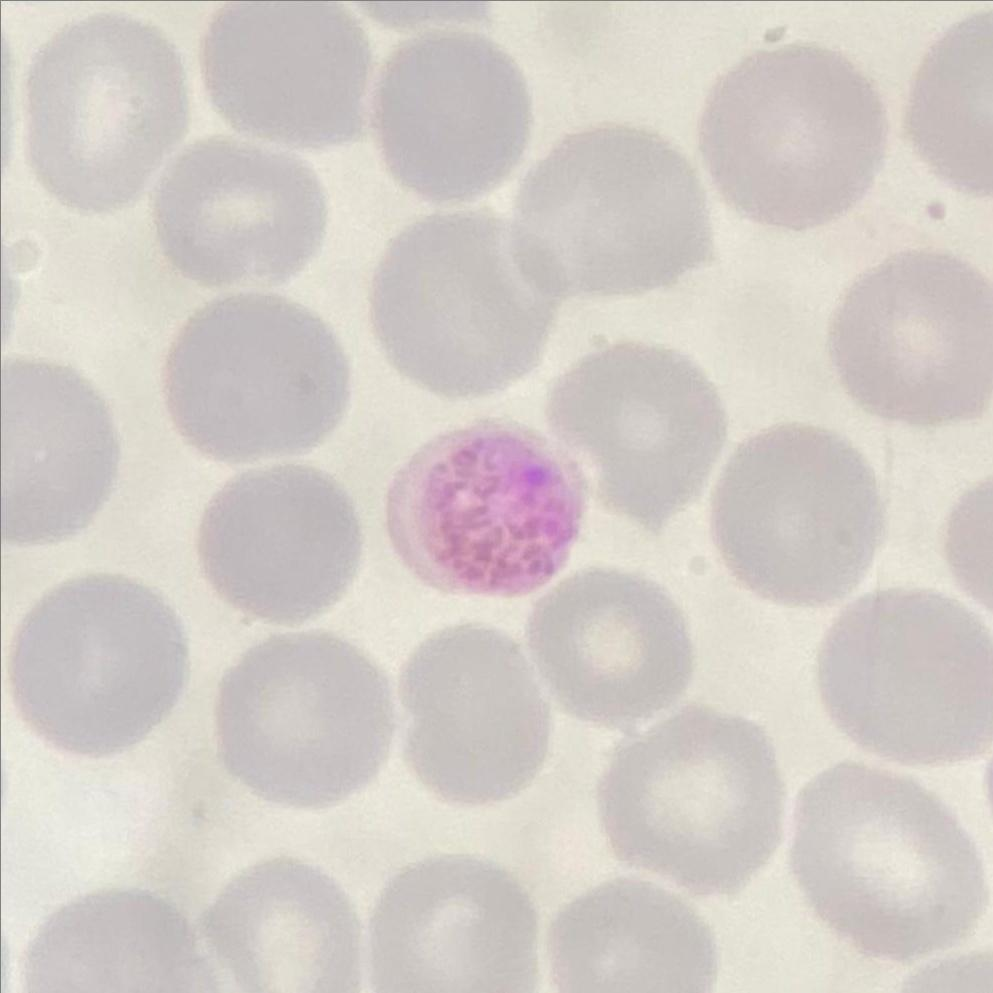Infected: (388, 421, 587, 596)
Uninfected: (790, 761, 980, 957), (376, 209, 560, 402), (598, 708, 785, 893), (514, 128, 714, 300), (702, 43, 885, 227), (545, 342, 727, 526), (10, 575, 188, 758), (163, 292, 352, 463), (213, 632, 394, 807), (26, 13, 189, 206), (712, 423, 882, 605), (818, 592, 992, 767), (396, 625, 553, 804), (832, 250, 992, 425), (370, 30, 533, 200), (201, 1, 379, 152), (197, 466, 365, 625), (154, 139, 331, 287), (528, 569, 693, 726), (367, 857, 541, 992), (201, 859, 369, 993)
